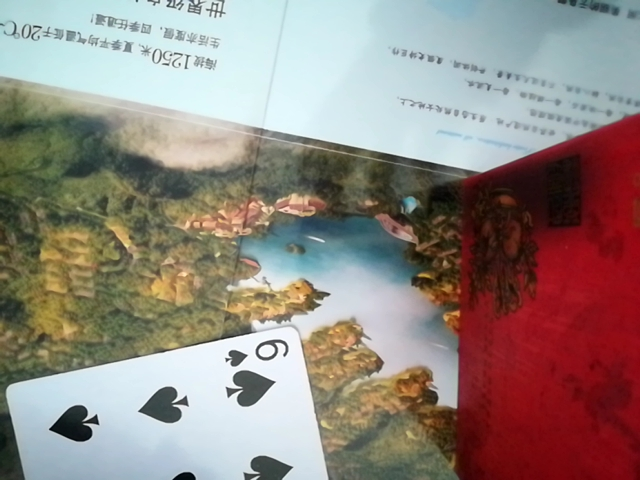ht 6: (1, 322, 351, 480)
